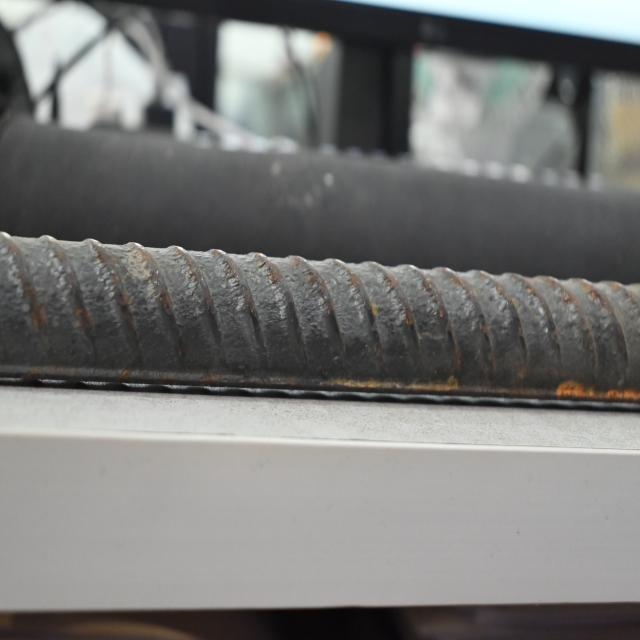ribbed bar: (2, 225, 640, 418)
